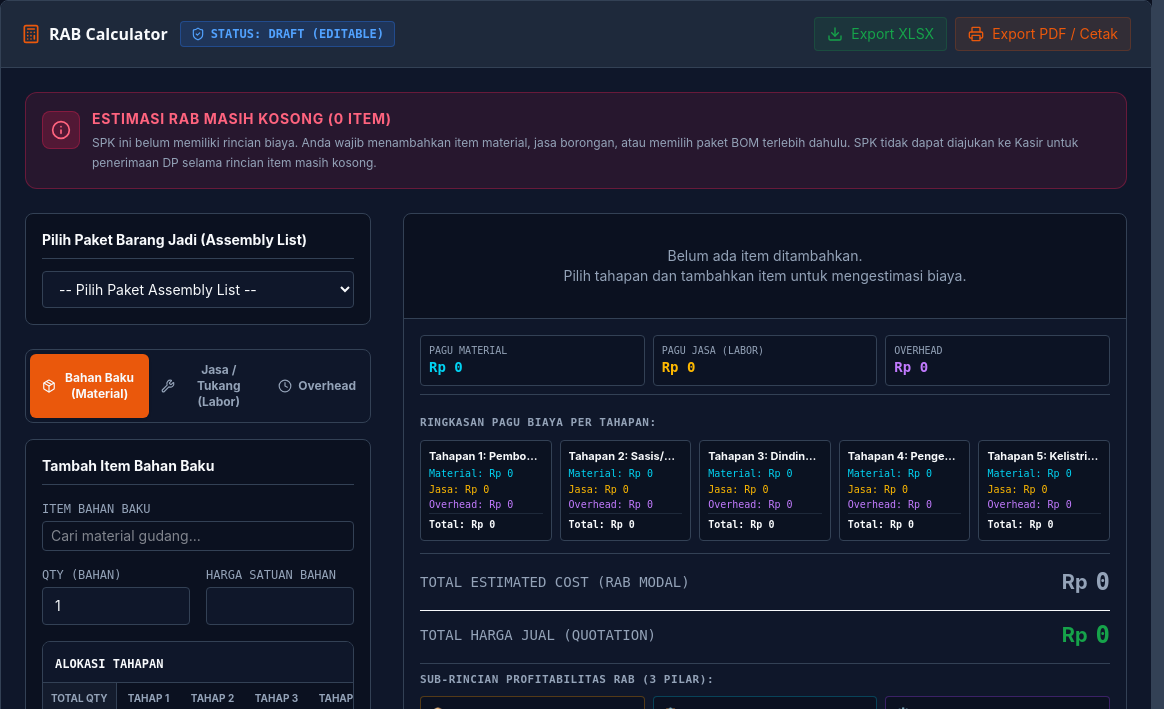
Scenario: Component: RabCalculator (Labor Entry & Pagu Jasa) › shows fallback notice when searching for a labor item that does not exist in inventory catalog
Expected: the text "Jasa / Tukang (Labor)" is shown, [197,362,240,409]
Step 1. Click the button "Jasa / Tukang (Labor)" → x=209, y=386, box [149,354,268,418]
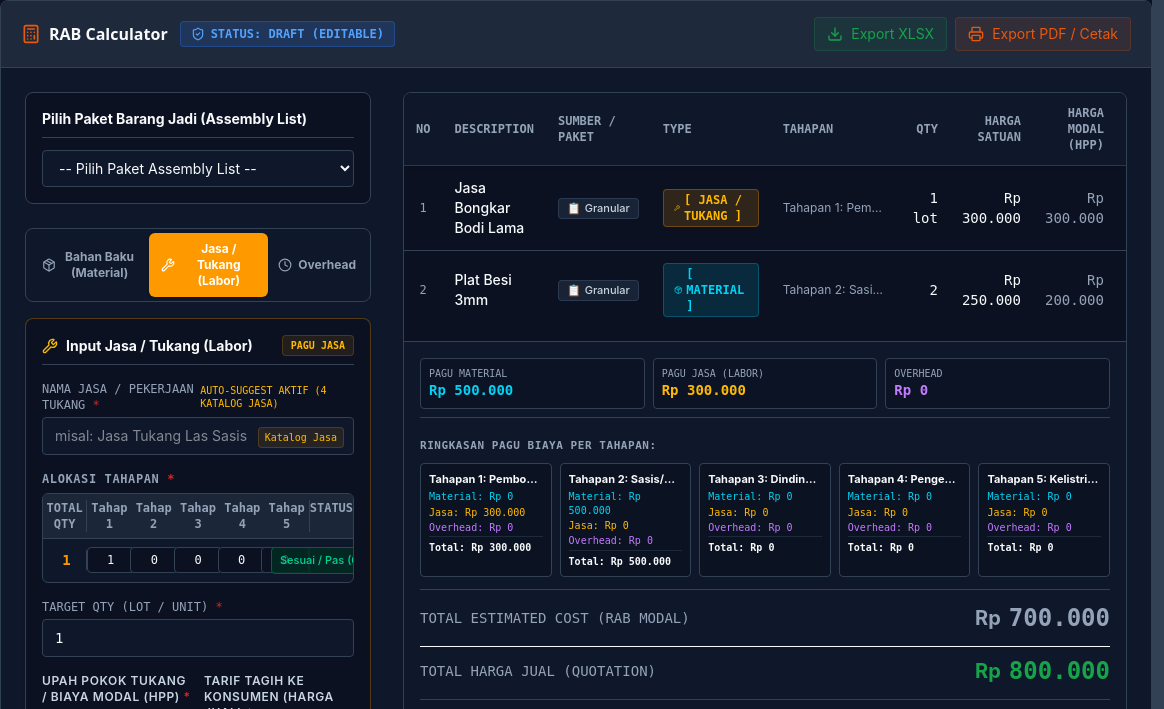
Step 2. Type "Jasa Tidak Dikenal 12345" into the field with placeholder "misal: Jasa Tukang Las Sasis" → x=198, y=436, box [42,417,354,455]
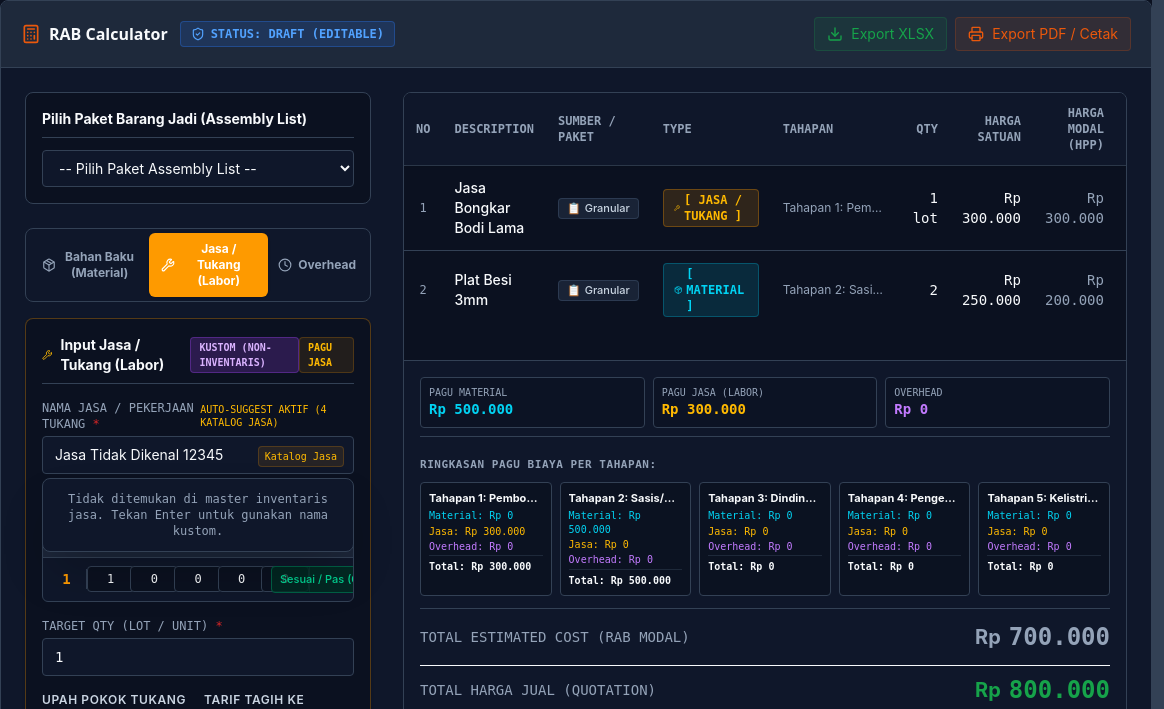
Expected: the text "Tidak ditemukan di master inventaris jasa. Tekan Enter untuk gunakan nama kustom." is shown, [68,492,328,538]
